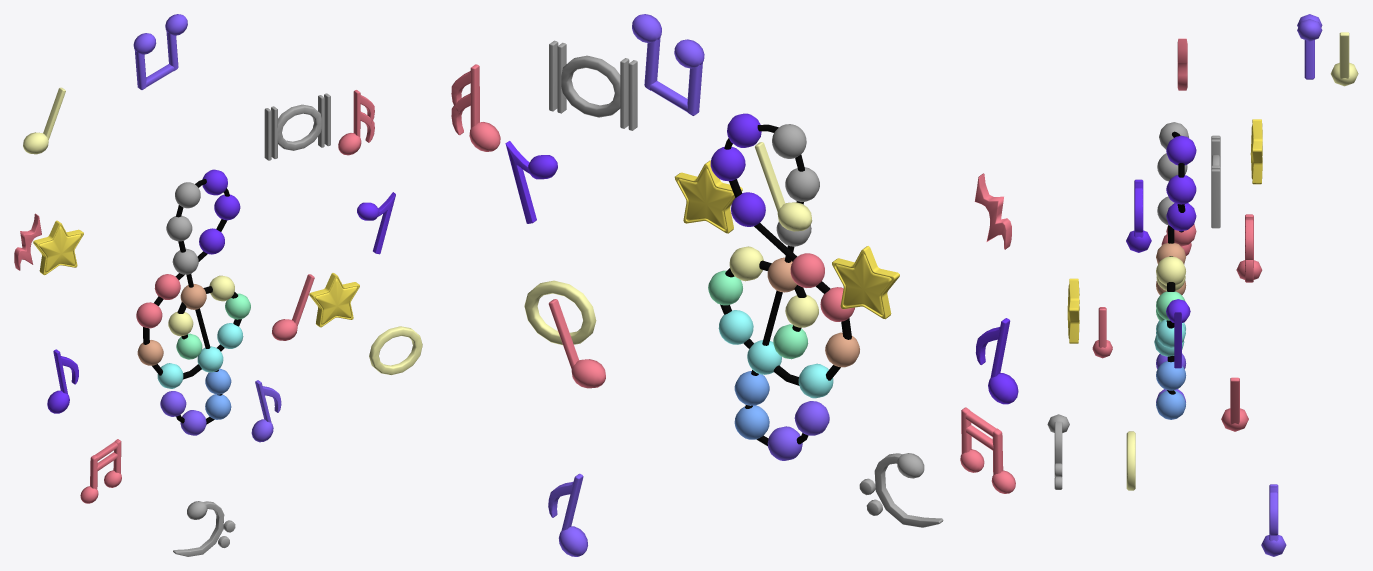
The model's file is DecorativeLights.fbx.
3 views of the same model, side by side, from view 1: azimuth 30°, elevation 25°; view 2: azimuth 150°, elevation 25°; view 3: azimuth 270°, elevation 25° (orthographic). The views are drawn at different scales.
Visible parts, largest first — view 1: S_DecorativeLights39, S_DecorativeLights36, S_DecorativeLights8, S_DecorativeLights31, S_DecorativeLights3, S_DecorativeLights35, S_DecorativeLights40, S_DecorativeLights37, S_DecorativeLights1, S_DecorativeLights4, S_DecorativeLights38, S_DecorativeLights30 (+22 smaller); view 2: S_DecorativeLights39, S_DecorativeLights36, S_DecorativeLights8, S_DecorativeLights31, S_DecorativeLights3, S_DecorativeLights40, S_DecorativeLights35, S_DecorativeLights37, S_DecorativeLights1, S_DecorativeLights38, S_DecorativeLights4, S_DecorativeLights6 (+22 smaller); view 3: S_DecorativeLights36, S_DecorativeLights1, S_DecorativeLights4, S_DecorativeLights39, S_DecorativeLights37, S_DecorativeLights30, S_DecorativeLights40, S_DecorativeLights38, S_DecorativeLights6, S_DecorativeLights31, S_DecorativeLights8, S_DecorativeLights25 (+13 smaller).
Boxes of the visible parts, x1,y1,x2,y2 form: S_DecorativeLights39: [264, 93, 330, 160]; S_DecorativeLights36: [133, 14, 187, 89]; S_DecorativeLights8: [33, 220, 83, 275]; S_DecorativeLights31: [309, 273, 359, 327]; S_DecorativeLights3: [80, 439, 121, 503]; S_DecorativeLights35: [369, 326, 422, 375]; S_DecorativeLights40: [173, 501, 235, 556]; S_DecorativeLights37: [338, 90, 374, 155]; S_DecorativeLights1: [47, 349, 78, 413]; S_DecorativeLights4: [251, 380, 281, 442]; S_DecorativeLights38: [357, 192, 395, 254]; S_DecorativeLights30: [23, 87, 65, 154]; S_DecorativeLights39: [549, 40, 637, 130]; S_DecorativeLights36: [632, 14, 704, 115]; S_DecorativeLights8: [832, 246, 899, 319]; S_DecorativeLights31: [674, 160, 742, 233]; S_DecorativeLights3: [960, 407, 1015, 493]; S_DecorativeLights40: [859, 453, 943, 527]; S_DecorativeLights35: [524, 280, 596, 345]; S_DecorativeLights37: [451, 64, 500, 151]; S_DecorativeLights1: [975, 318, 1018, 404]; S_DecorativeLights38: [505, 141, 557, 223]; S_DecorativeLights4: [548, 473, 587, 556]; S_DecorativeLights6: [548, 299, 605, 388]; S_DecorativeLights36: [1297, 14, 1322, 79]; S_DecorativeLights1: [1126, 179, 1151, 252]; S_DecorativeLights4: [1261, 484, 1286, 556]; S_DecorativeLights39: [1211, 135, 1220, 228]; S_DecorativeLights37: [1236, 214, 1262, 282]; S_DecorativeLights30: [1330, 32, 1358, 86]; S_DecorativeLights40: [1047, 414, 1069, 489]; S_DecorativeLights38: [1166, 299, 1190, 368]; S_DecorativeLights6: [1221, 377, 1248, 431]; S_DecorativeLights31: [1067, 278, 1079, 343]; S_DecorativeLights8: [1250, 119, 1262, 184]; S_DecorativeLights25: [1166, 175, 1196, 204].
Bounding box in the file's own units: 992 × 1075 × 599.
